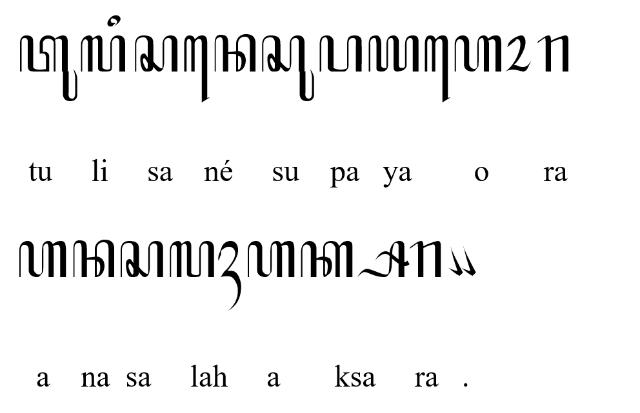_h1: (218, 241, 242, 311)
_s: (356, 240, 409, 280)
e1: (424, 35, 451, 103), (183, 35, 209, 103)
h: (18, 241, 68, 279), (246, 240, 296, 278), (453, 34, 502, 72)
i: (106, 15, 120, 28)
k: (300, 240, 352, 278)
kom: (448, 246, 464, 276), (461, 246, 477, 276)
l: (80, 35, 126, 74), (169, 240, 215, 278)
n: (73, 239, 115, 279), (214, 34, 256, 72)
o: (506, 34, 532, 72)
p: (318, 35, 364, 73)
r: (537, 34, 569, 72), (411, 239, 441, 276)
s: (119, 240, 165, 278), (133, 34, 177, 72)
su: (261, 35, 315, 101)
tu: (20, 34, 78, 102)
y: (368, 35, 418, 73)
